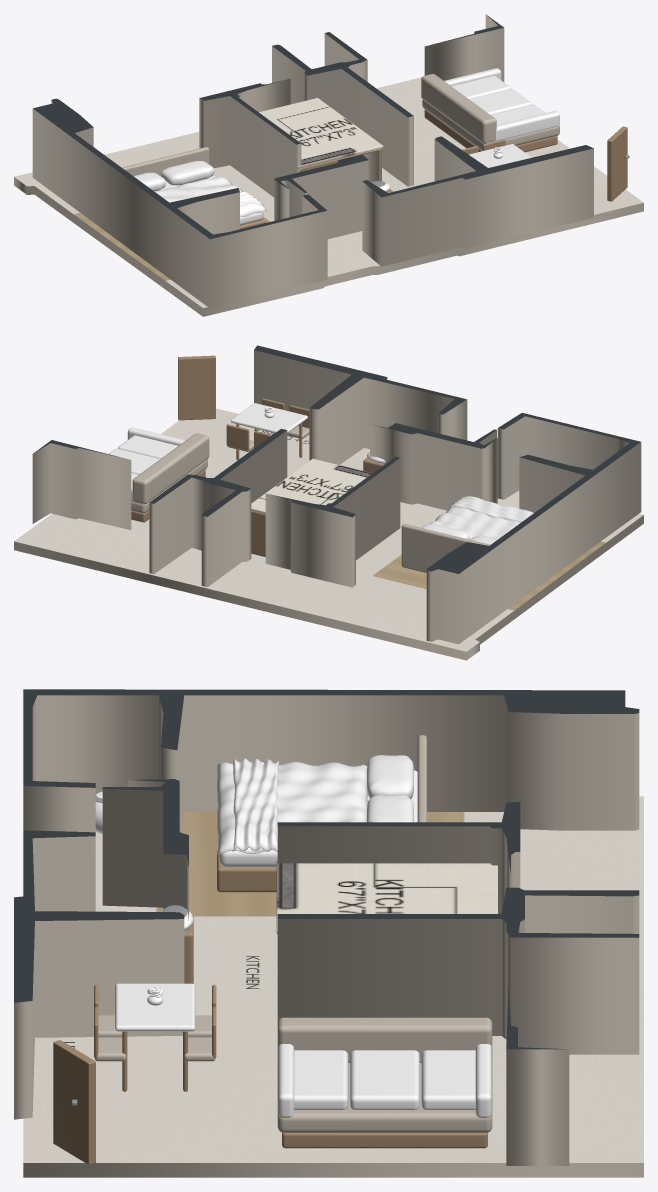
The model's file is coral-group-unit-01.glb.
3 renders of one model, top to bottom at view 1: azimuth 30°, elevation 25°; view 2: azimuth 150°, elevation 25°; view 3: azimuth 270°, elevation 25°, orthographic. The views are drawn at different scales.
Parts seen in each view (by area): view 1: Partition walls, Apartment floor, Stone worktop, Sofa back, Draped bed linen, Open oak door, Padded armrest, Upholstered headboard, Upholstered sofa frame, Tailored pillow.001, Seat cushion.001, Sofa plinth (+4 smaller); view 2: Partition walls, Apartment floor, Stone worktop, Sofa back, Open oak door, Upholstered headboard, Draped bed linen, Marble dining top, Draped bed linen.001, Seat cushion, Kitchen cabinets, Seat cushion.001 (+2 smaller); view 3: Partition walls, Apartment floor, Stone worktop, Sofa back, Draped bed linen, Upholstered sofa frame, Open oak door, Seat cushion.001, Draped bed linen.001, Marble dining top, Sofa plinth, Seat cushion (+8 smaller).
Part boxes in pixels (left/top/right/bottom): Partition walls: left=32, top=14, right=593, bottom=308; Apartment floor: left=14, top=77, right=643, bottom=316; Stone worktop: left=259, top=98, right=383, bottom=168; Sofa back: left=421, top=74, right=496, bottom=143; Draped bed linen: left=154, top=176, right=267, bottom=217; Open oak door: left=607, top=126, right=627, bottom=201; Padded armrest: left=484, top=111, right=559, bottom=143; Upholstered headboard: left=122, top=147, right=209, bottom=176; Upholstered sofa frame: left=422, top=99, right=559, bottom=151; Tailored pillow.001: left=161, top=161, right=214, bottom=185; Seat cushion.001: left=469, top=89, right=532, bottom=114; Sofa plinth: left=424, top=109, right=557, bottom=152; Partition walls: left=32, top=345, right=641, bottom=644; Apartment floor: left=14, top=408, right=643, bottom=660; Stone worktop: left=251, top=458, right=372, bottom=513; Sofa back: left=132, top=433, right=209, bottom=503; Open oak door: left=178, top=355, right=215, bottom=420; Upholstered headboard: left=401, top=524, right=490, bottom=572; Draped bed linen: left=429, top=497, right=533, bottom=539; Marble dining top: left=231, top=403, right=307, bottom=433; Draped bed linen.001: left=448, top=496, right=532, bottom=522; Seat cushion: left=118, top=435, right=177, bottom=458; Kitchen cabinets: left=251, top=510, right=265, bottom=556; Seat cushion.001: left=109, top=448, right=160, bottom=474; Partition walls: left=14, top=689, right=639, bottom=1165; Apartment floor: left=23, top=796, right=643, bottom=1177; Stone worktop: left=276, top=860, right=497, bottom=934; Sofa back: left=277, top=1017, right=492, bottom=1062; Draped bed linen: left=217, top=762, right=368, bottom=854; Upholstered sofa frame: left=277, top=1060, right=492, bottom=1132; Open oak door: left=53, top=1040, right=95, bottom=1164; Seat cushion.001: left=350, top=1050, right=419, bottom=1109; Draped bed linen.001: left=232, top=758, right=279, bottom=852; Marble dining top: left=115, top=983, right=195, bottom=1031; Sofa plinth: left=282, top=1132, right=487, bottom=1148; Seat cushion: left=294, top=1050, right=348, bottom=1109.
Bounding box in the file's own units: 8.69 × 1.44 × 6.26.
Materials: 12 (2 with a texture image).
